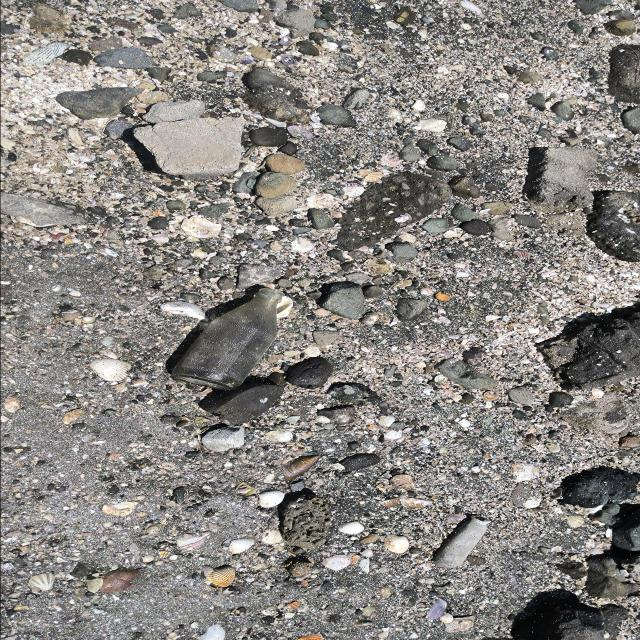glass_waste: (170, 290, 284, 391)
